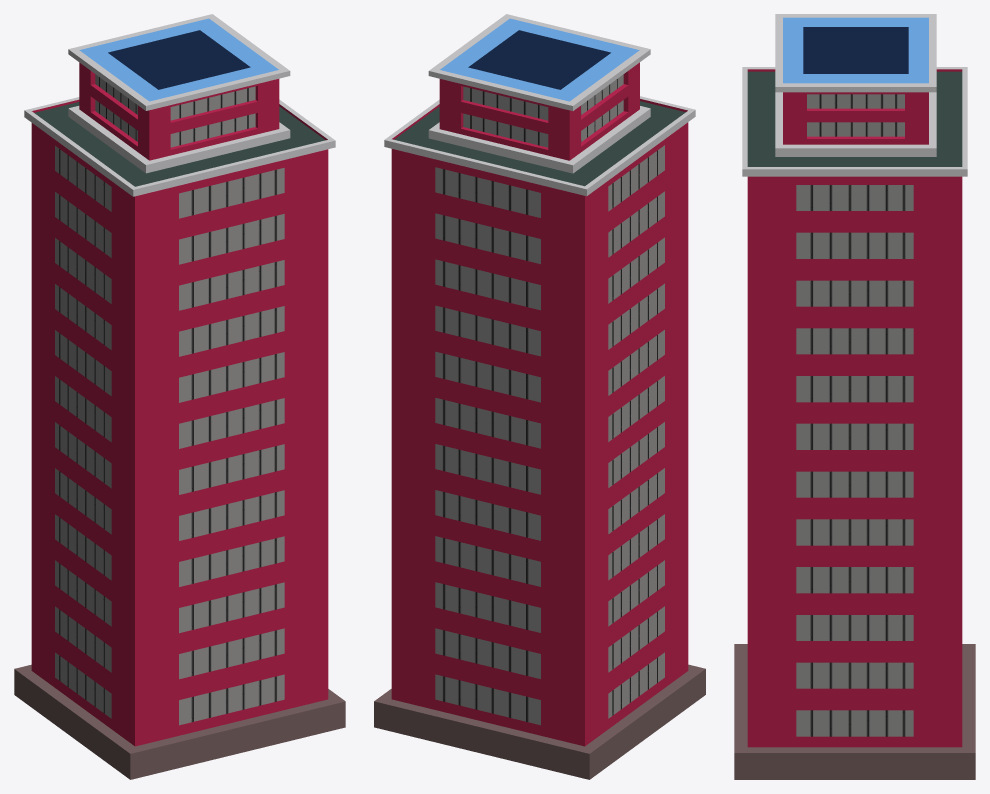
The model's file is building31c.FBX.
The picture shows the model from 3 angles, left to right: view 1: azimuth 30°, elevation 25°; view 2: azimuth 150°, elevation 25°; view 3: azimuth 270°, elevation 25°; orthographic projection. The views are drawn at different scales.
Parts seen in each view (by area): view 1: building31c; view 2: building31c; view 3: building31c.
Boxes of the visible parts, bbox=[...] form: building31c: bbox=[14, 14, 345, 779]; building31c: bbox=[374, 14, 705, 779]; building31c: bbox=[734, 14, 975, 779].
Size of the model in its own units: 17.44 by 50.37 by 16.3.
